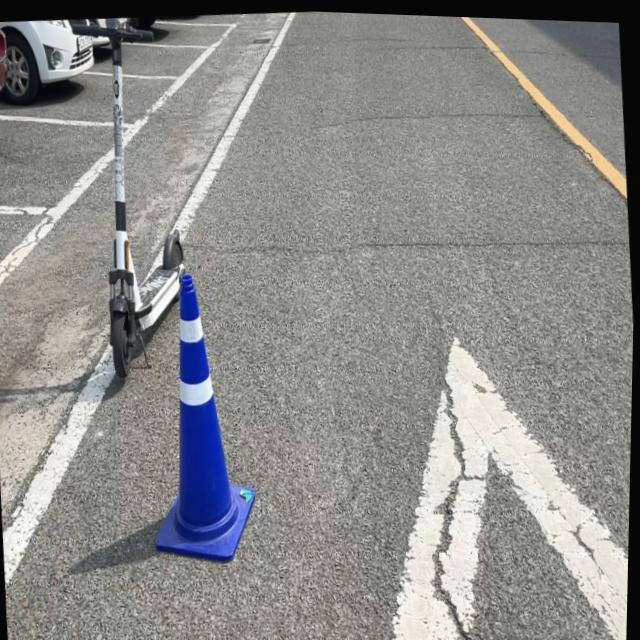b_rub: (158, 272, 257, 559)
